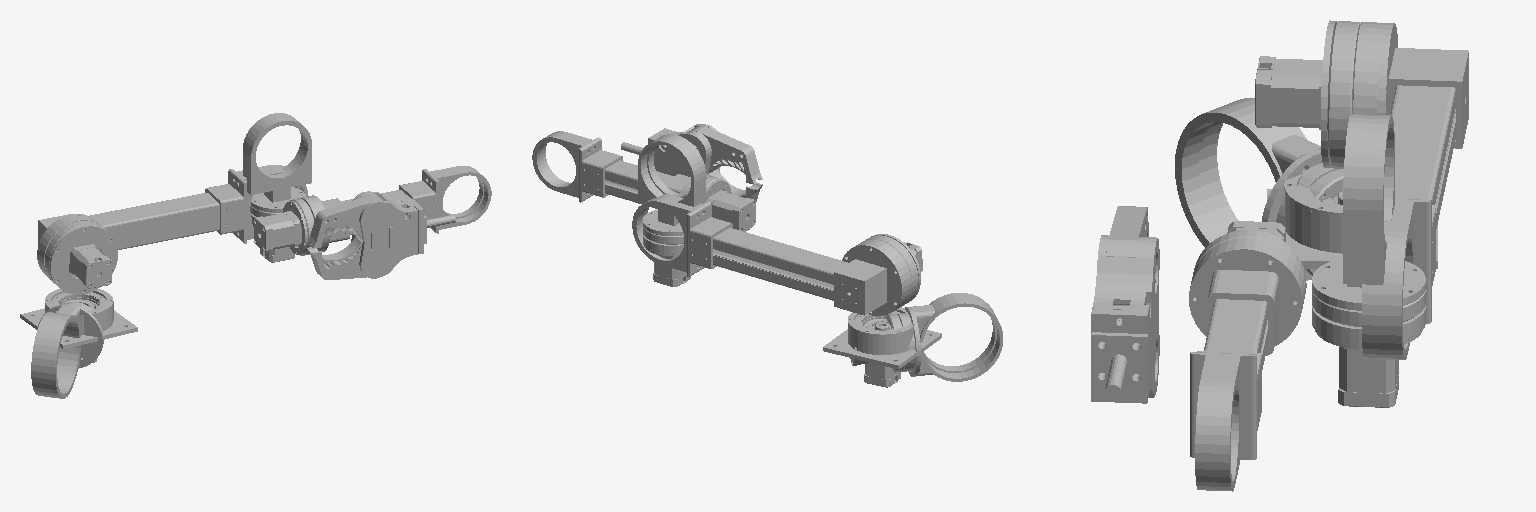
robot.urdf — SPEAR_Arm:
<?xml version="1.0" encoding="utf-8"?>
<!-- This URDF was automatically created by SolidWorks to URDF Exporter! Originally created by [author] ([email redacted]) 
     Commit Version: 1.6.0-4-g7f85cfe  Build Version: 1.6.7995.38578
     For more information, please see http://wiki.ros.org/sw_urdf_exporter -->
<robot
  name="SPEAR_Arm">
  <link
    name="base_link">
    <inertial>
      <origin
        xyz="3.16799867477683E-17 9.21749145776317E-17 -0.00623708097620095"
        rpy="0 0 0" />
      <mass
        value="0.692524123906466" />
      <inertia
        ixx="0.00137416635128141"
        ixy="-3.33415978209264E-19"
        ixz="1.38782870903349E-20"
        iyy="0.00137416635128141"
        iyz="9.49244932547869E-20"
        izz="0.0025458973618602" />
    </inertial>
    <visual>
      <origin
        xyz="0 0 0"
        rpy="0 0 0" />
      <geometry>
        <mesh
          filename="package://description/meshes/base_link.STL" />
      </geometry>
      <material
        name="">
        <color
          rgba="0.752941176470588 0.752941176470588 0.752941176470588 1" />
      </material>
    </visual>
    <collision>
      <origin
        xyz="0 0 0"
        rpy="0 0 0" />
      <geometry>
        <mesh
          filename="package://description/meshes/base_link_collision.STL" />
      </geometry>
    </collision>
  </link>
  <link
    name="base_joint">
    <inertial>
      <origin
        xyz="0.0396864881982836 -0.000199483171229487 0.000203916910570974"
        rpy="0 0 0" />
      <mass
        value="1.47738507112296" />
      <inertia
        ixx="0.00173644836892209"
        ixy="5.04000250358313E-06"
        ixz="-5.50880537488887E-06"
        iyy="0.00156626480987519"
        iyz="-0.000250260146305554"
        izz="0.00161124015763902" />
    </inertial>
    <visual>
      <origin
        xyz="0 0 0"
        rpy="0 0 0" />
      <geometry>
        <mesh
          filename="package://description/meshes/base_joint.STL" />
      </geometry>
      <material
        name="">
        <color
          rgba="0.752941176470588 0.752941176470588 0.752941176470588 1" />
      </material>
    </visual>
    <collision>
      <origin
        xyz="0 0 0"
        rpy="0 0 0" />
      <geometry>
        <mesh
          filename="package://description/meshes/joint_1_collsion.STL" />
      </geometry>
    </collision>
  </link>
  <joint
    name="Shoulder Roll"
    type="continuous">
    <origin
      xyz="0 0 0"
      rpy="0.740762263510472 -1.5707963267949 0" />
    <parent
      link="base_link" />
    <child
      link="base_joint" />
    <axis
      xyz="1 0 0" />
  </joint>
  <link
    name="link_1">
    <inertial>
      <origin
        xyz="0.0201107904068754 -0.000699793106638869 -0.0571172260543161"
        rpy="0 0 0" />
      <mass
        value="3.44363478464573" />
      <inertia
        ixx="0.00845059338877604"
        ixy="1.52776594858077E-07"
        ixz="-6.15113949547405E-06"
        iyy="0.00638861497306379"
        iyz="5.20507537067759E-08"
        izz="0.00306734532619655" />
    </inertial>
    <visual>
      <origin
        xyz="0 0 0"
        rpy="0 0 0" />
      <geometry>
        <mesh
          filename="package://description/meshes/link_1.STL" />
      </geometry>
      <material
        name="">
        <color
          rgba="0.752941176470588 0.752941176470588 0.752941176470588 1" />
      </material>
    </visual>
    <collision>
      <origin
        xyz="0 0 0"
        rpy="0 0 0" />
      <geometry>
        <mesh
          filename="package://description/meshes/link_1.STL" />
      </geometry>
    </collision>
  </link>
  <joint
    name="Shoulder Pitch"
    type="revolute">
    <origin
      xyz="0.112 0 0"
      rpy="0 0.830034063284424 1.57079632679488" />
    <parent
      link="base_joint" />
    <child
      link="link_1" />
    <axis
      xyz="-1 0 0" />
    <limit
      lower="-1.0472"
      upper="3.6652"
      effort="0"
      velocity="0" />
  </joint>
  <link
    name="link_2">
    <inertial>
      <origin
        xyz="0.00377731865823253 -1.08701091180302E-05 0.000137137871969006"
        rpy="0 0 0" />
      <mass
        value="1.5153745049325" />
      <inertia
        ixx="0.00151052573041459"
        ixy="4.318673973076E-10"
        ixz="-3.94520702946067E-06"
        iyy="0.000960514355142274"
        iyz="-1.18312010616379E-10"
        izz="0.00129766839873913" />
    </inertial>
    <visual>
      <origin
        xyz="0 0 0"
        rpy="0 0 0" />
      <geometry>
        <mesh
          filename="package://description/meshes/link_2.STL" />
      </geometry>
      <material
        name="">
        <color
          rgba="0.752941176470588 0.752941176470588 0.752941176470588 1" />
      </material>
    </visual>
    <collision>
      <origin
        xyz="0 0 0"
        rpy="0 0 0" />
      <geometry>
        <mesh
          filename="package://description/meshes/link_2.STL" />
      </geometry>
    </collision>
  </link>
  <joint
    name="Elbow Pitch"
    type="revolute">
    <origin
      xyz="0.0428412022704851 -0.000700000000055892 -0.34315000105285"
      rpy="0 0 -3.14159265358978" />
    <parent
      link="link_1" />
    <child
      link="link_2" />
    <axis
      xyz="1 0 0" />
    <limit
      lower="-2.7925"
      upper="1.9722"
      effort="0"
      velocity="0" />
  </joint>
  <link
    name="link_3">
    <inertial>
      <origin
        xyz="0.0654796463911018 -0.000151184620193826 -0.000160482278215801"
        rpy="0 0 0" />
      <mass
        value="2.07375542707273" />
      <inertia
        ixx="0.00161468452783234"
        ixy="1.97123090743411E-06"
        ixz="-1.57472017298584E-10"
        iyy="0.00248003537406924"
        iyz="-2.04818278580273E-07"
        izz="0.00230876885278511" />
    </inertial>
    <visual>
      <origin
        xyz="0 0 0"
        rpy="0 0 0" />
      <geometry>
        <mesh
          filename="package://description/meshes/link_3.STL" />
      </geometry>
      <material
        name="">
        <color
          rgba="0.752941176470588 0.752941176470588 0.752941176470588 1" />
      </material>
    </visual>
    <collision>
      <origin
        xyz="0 0 0"
        rpy="0 0 0" />
      <geometry>
        <mesh
          filename="package://description/meshes/link_3.STL" />
      </geometry>
    </collision>
  </link>
  <joint
    name="Elbow Roll"
    type="revolute">
    <origin
      xyz="0.09 0 0"
      rpy="1.5707963267949 1.5707963267949 0" />
    <parent
      link="link_2" />
    <child
      link="link_3" />
    <axis
      xyz="1 0 0" />
    <limit
      lower="-3.1416"
      upper="3.1416"
      effort="0"
      velocity="0" />
  </joint>
  <link
    name="link_4">
    <inertial>
      <origin
        xyz="0.0665147333833135 6.57060609399601E-05 -0.00829151281291829"
        rpy="0 0 0" />
      <mass
        value="1.56472201375409" />
      <inertia
        ixx="0.00274365868526142"
        ixy="4.97483377943942E-08"
        ixz="-1.08082401323012E-06"
        iyy="0.00236577011230846"
        iyz="-2.86764704557576E-09"
        izz="0.00122113820715794" />
    </inertial>
    <visual>
      <origin
        xyz="0 0 0"
        rpy="0 0 0" />
      <geometry>
        <mesh
          filename="package://description/meshes/link_4.STL" />
      </geometry>
      <material
        name="">
        <color
          rgba="0.752941176470588 0.752941176470588 0.752941176470588 1" />
      </material>
    </visual>
    <collision>
      <origin
        xyz="0 0 0"
        rpy="0 0 0" />
      <geometry>
        <mesh
          filename="package://description/meshes/link_4.STL" />
      </geometry>
    </collision>
  </link>
  <joint
    name="Wrist Pitch"
    type="revolute">
    <origin
      xyz="0.25884999894715 -0.00284120227048547 0.000299999999948689"
      rpy="-1.57079632679492 0 1.5707963267949" />
    <parent
      link="link_3" />
    <child
      link="link_4" />
    <axis
      xyz="-1 0 0" />
    <limit
      lower="-2.7576"
      upper="2.6704"
      effort="0"
      velocity="0" />
  </joint>
  <link
    name="link_5">
    <inertial>
      <origin
        xyz="0.170125955361708 -0.00360770807542265 0.00601989780117211"
        rpy="0 0 0" />
      <mass
        value="0.750967399035288" />
      <inertia
        ixx="0.000580115693570658"
        ixy="2.85026358587835E-05"
        ixz="3.44034905741974E-05"
        iyy="0.00106973660677863"
        iyz="1.48522113054278E-05"
        izz="0.000644136496032607" />
    </inertial>
    <visual>
      <origin
        xyz="0 0 0"
        rpy="0 0 0" />
      <geometry>
        <mesh
          filename="package://description/meshes/link_5.STL" />
      </geometry>
      <material
        name="">
        <color
          rgba="0.752941176470588 0.752941176470588 0.752941176470588 1" />
      </material>
    </visual>
    <collision>
      <origin
        xyz="0 0 0"
        rpy="0 0 0" />
      <geometry>
        <mesh
          filename="package://description/meshes/link_5.STL" />
      </geometry>
    </collision>
  </link>
  <joint
    name="Wrist Roll"
    type="continuous">
    <origin
      xyz="0.09 0.00300000000000089 0.002"
      rpy="1.57079632679489 1.5707963267949 0" />
    <parent
      link="link_4" />
    <child
      link="link_5" />
    <axis
      xyz="1 0 0" />
    <limit
      lower="0"
      upper="0"
      effort="0"
      velocity="0" />
  </joint>
</robot>

--- Facts derived from the render (not from the file) ---
3 views of the same robot in one strip: view 1: azimuth 30°, elevation 25°; view 2: azimuth 150°, elevation 25°; view 3: azimuth 270°, elevation 25° (orthographic).
Robot: SPEAR_Arm — 7 links, 6 joints (4 revolute, 2 continuous); root link base_link; default pose: every joint at zero.
Links seen in each view (by area): view 1: link_1, link_5, link_3, base_joint, link_2, base_link; view 2: link_1, link_3, link_2, base_link, base_joint, link_5; view 3: link_1, link_3, link_2, link_5, base_joint, base_link.
Boxes of the visible links, left/top/right/bottom form: link_1: left=37, top=165, right=307, bottom=294; link_5: left=307, top=191, right=455, bottom=279; link_3: left=254, top=166, right=491, bottom=255; base_joint: left=31, top=302, right=103, bottom=398; link_2: left=243, top=113, right=311, bottom=262; base_link: left=20, top=289, right=137, bottom=362; link_1: left=632, top=194, right=922, bottom=315; link_3: left=532, top=131, right=755, bottom=231; link_2: left=638, top=134, right=705, bottom=286; base_link: left=823, top=307, right=941, bottom=387; base_joint: left=850, top=293, right=1002, bottom=381; link_5: left=621, top=124, right=762, bottom=201; link_1: left=1255, top=20, right=1468, bottom=359; link_3: left=1189, top=221, right=1306, bottom=491; link_2: left=1312, top=114, right=1425, bottom=407; link_5: left=1091, top=206, right=1159, bottom=403; base_joint: left=1175, top=98, right=1343, bottom=280; base_link: left=1267, top=170, right=1437, bottom=268.
Bounding box of the posed robot: 0.7807 × 0.2809 × 0.3151 m (x, y, z).
6 mesh visuals loaded from 7 distinct referenced files (6 binary STL); not drawn: 1 (reference not matched to a file when rendering).